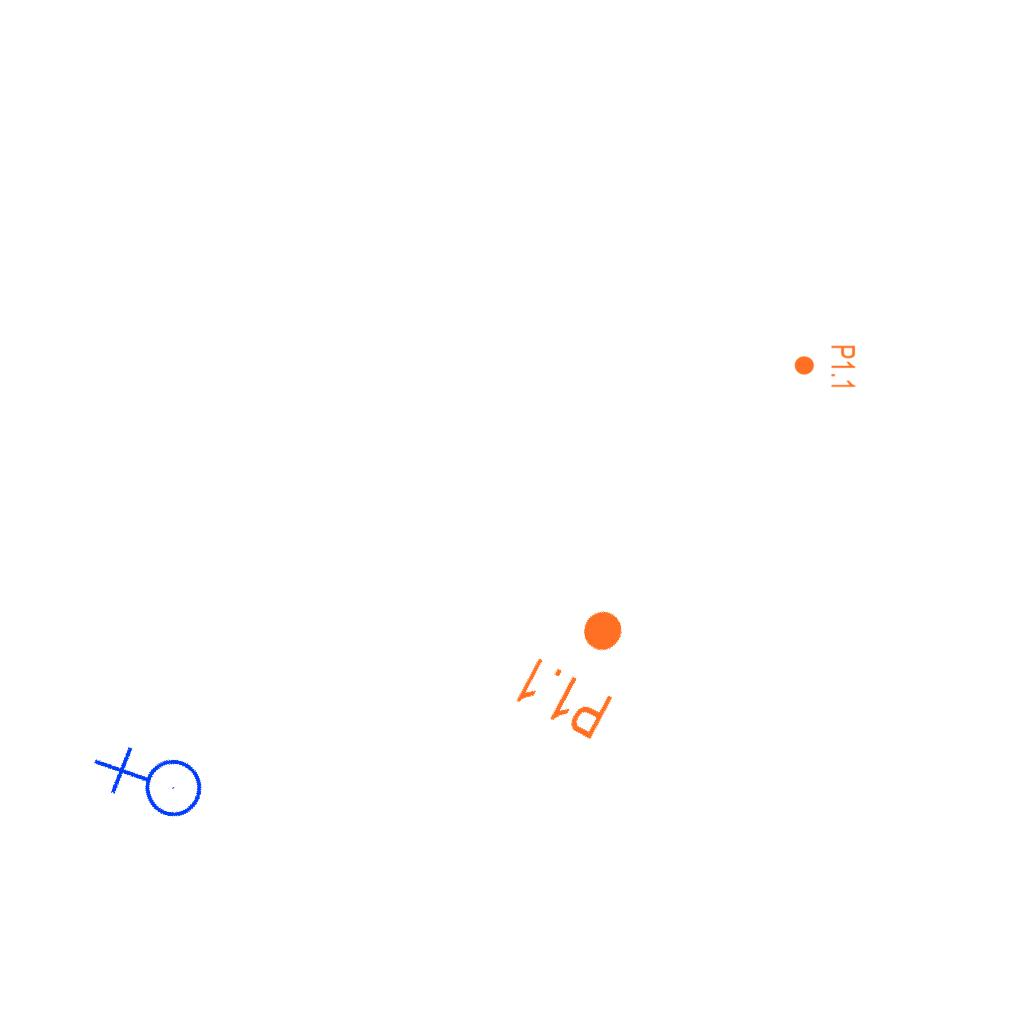Downlight_LED_Einbauleuchten_Flur: (509, 587, 652, 745), (793, 344, 857, 390)
Elektroanschluss_allgemein_230V_Geraeteanschlussdose_230V: (88, 719, 217, 851)
